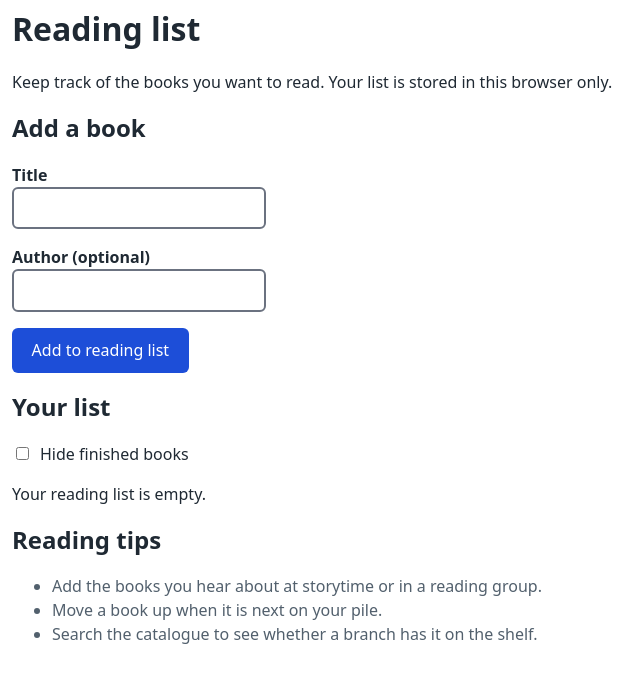
Scenario: ReadingListPage › asks for a title before adding
The image size is (629, 685).
Click the button "Add to reading list" at (100, 350), box [12, 328, 189, 373]
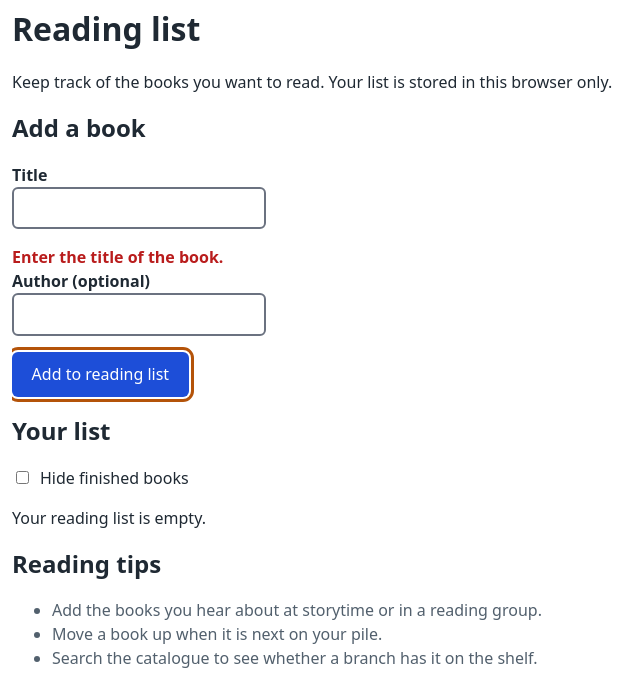
Expected: the text "Enter the title of the book." is shown, [12, 246, 223, 268]
